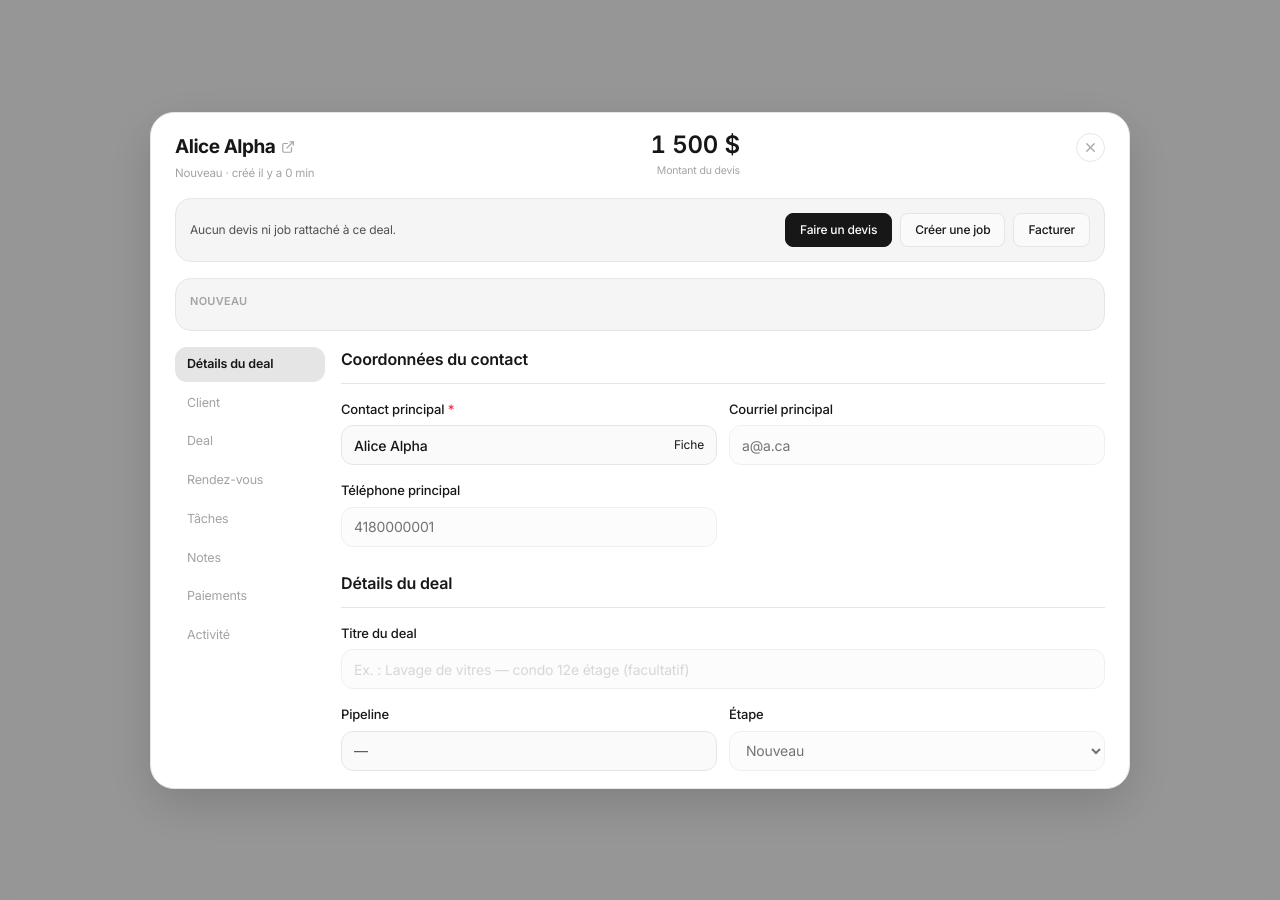
Scenario: P0-1 — « Gagné » transmet l étape visée › « Perdu » ne passe PAS par la création de job
The width and height of the screenshot is (1280, 900).
Click the tab "Deal": (250, 442) [175,424,325,459]
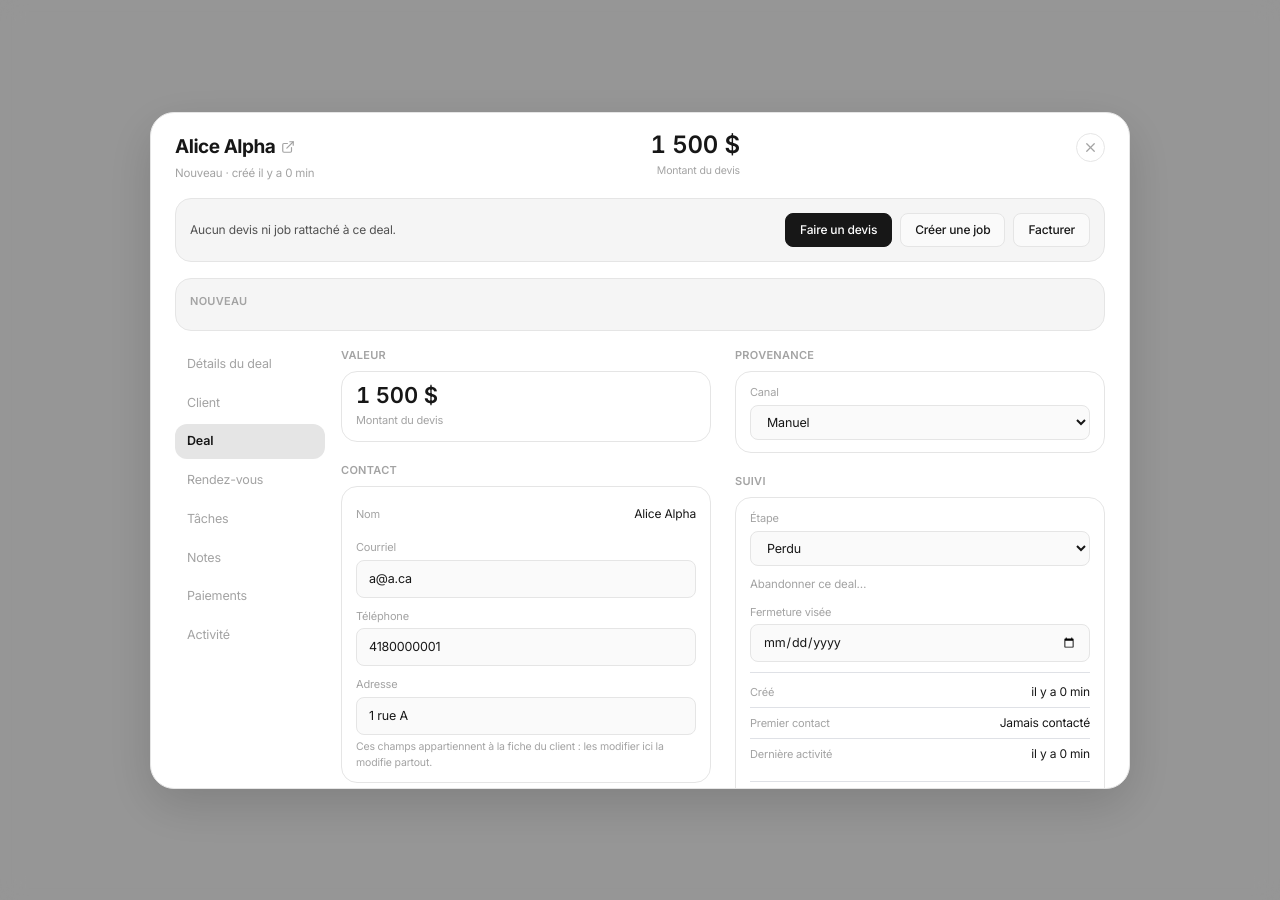
Select "Perdu" in the dropdown labelled "Étape": (920, 548) [750,531,1090,566]
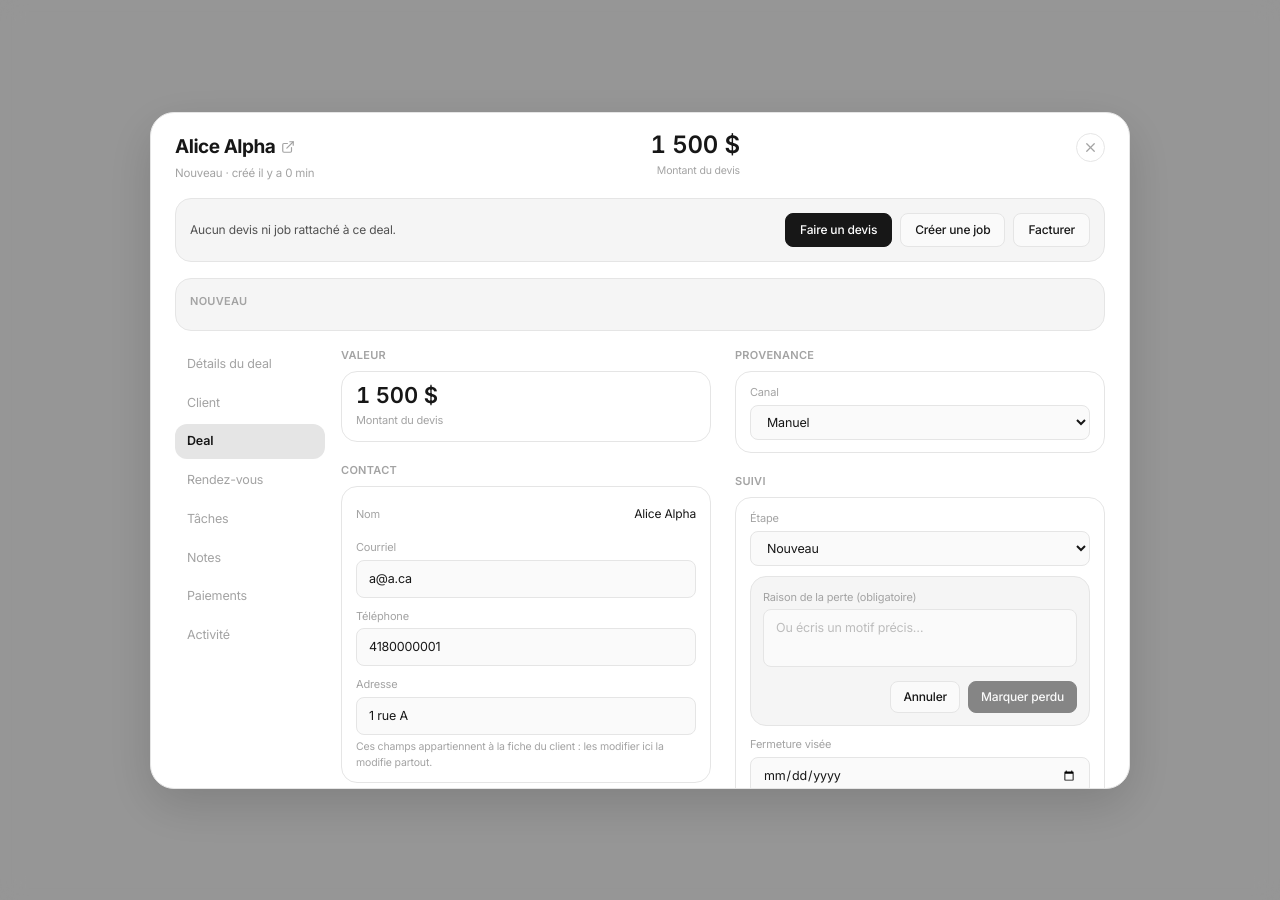
Now the text "Raison de la perte (obligatoire)" is shown, box [763,590,916,604]
